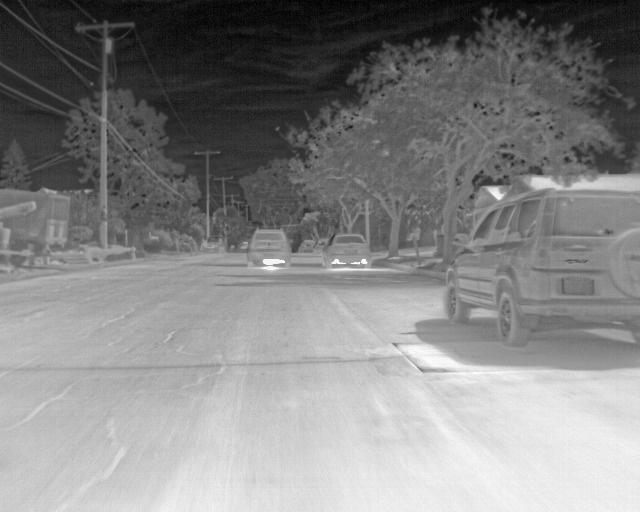car: (443, 187, 639, 347), (321, 232, 372, 270), (246, 226, 293, 266), (297, 238, 318, 254), (236, 238, 250, 252)
